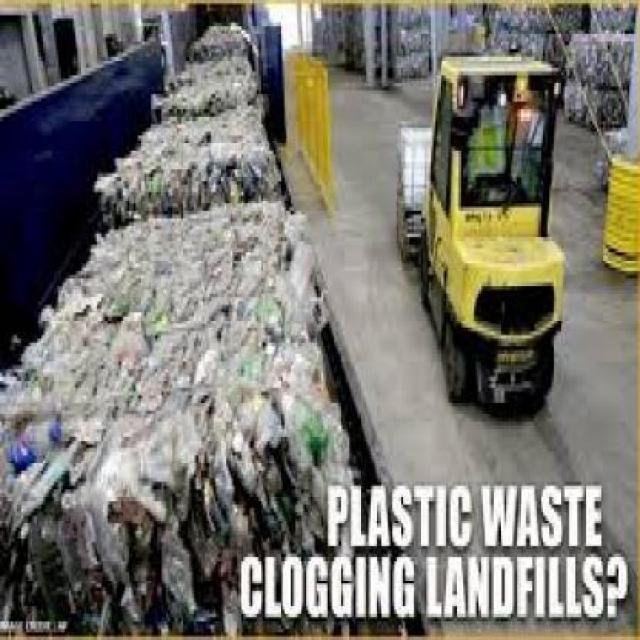garbage: (25, 23, 314, 546)
